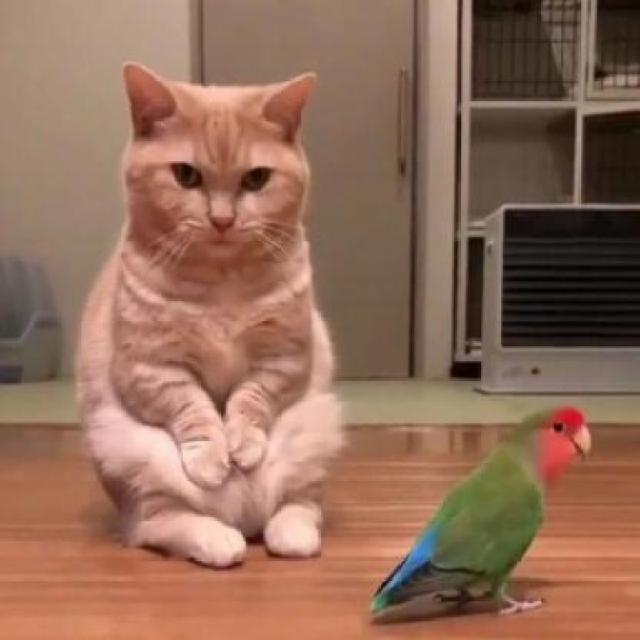cat: (72, 54, 357, 571)
